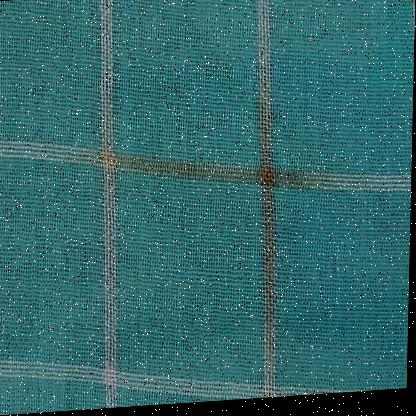spot: (255, 64, 285, 352), (117, 145, 173, 184), (174, 157, 223, 191), (221, 163, 256, 193), (283, 171, 323, 197), (102, 132, 121, 179), (73, 146, 101, 168)
